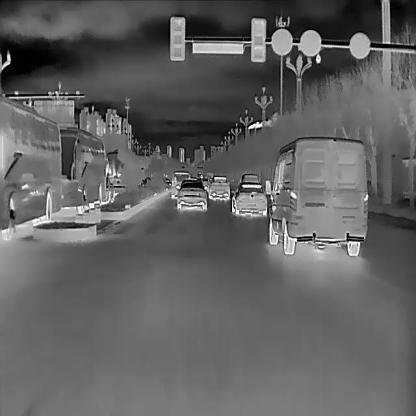bus: (0, 94, 62, 238), (56, 122, 107, 212)
car: (267, 137, 369, 255), (231, 183, 266, 216), (176, 178, 206, 212), (169, 170, 189, 197), (208, 176, 228, 199), (240, 174, 256, 188)
